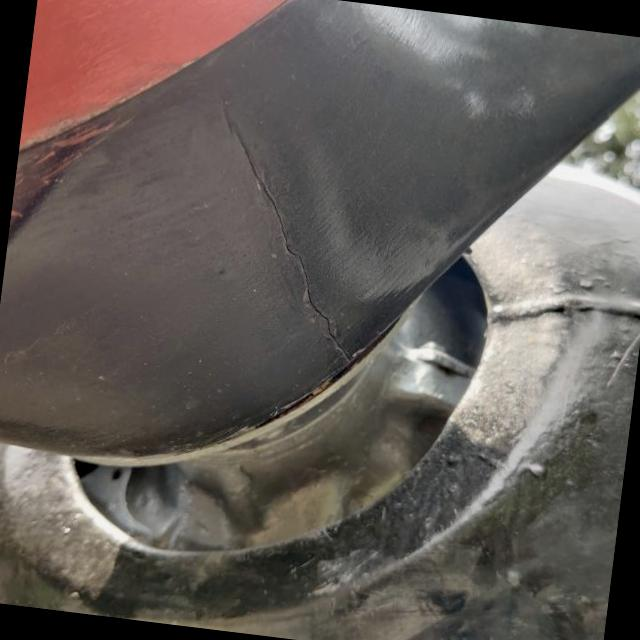crack: (157, 75, 400, 386)
